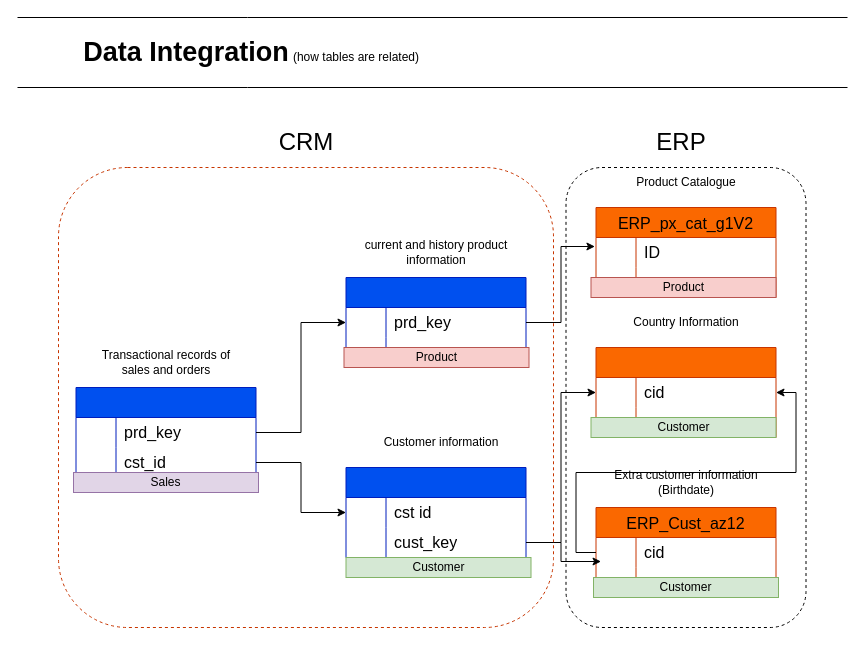
Image size: 866x645. Some labels were removed from this diagram. Here are the shapes that lost their labels. From the top down, the box of each, then its label:
(345, 276, 526, 368): bronze.prd info
(595, 346, 776, 438): ERP_Loc_a101
(75, 386, 256, 478): crm_sales_details
(345, 466, 526, 558): bronze.crm_cust info
